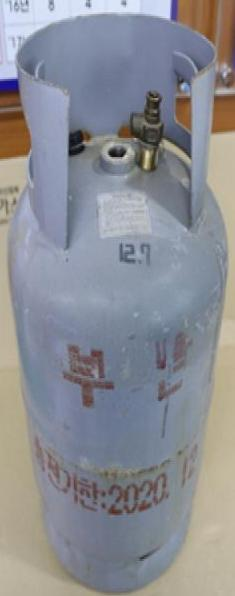cylinder: (1, 1, 235, 596)
